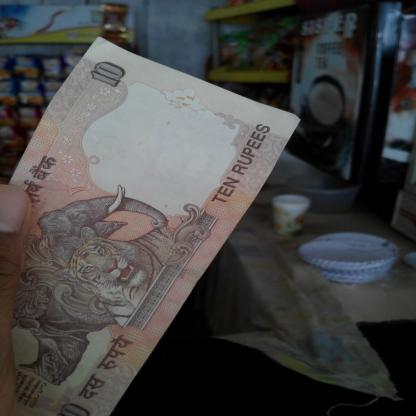Old10Back: (1, 34, 302, 416)
